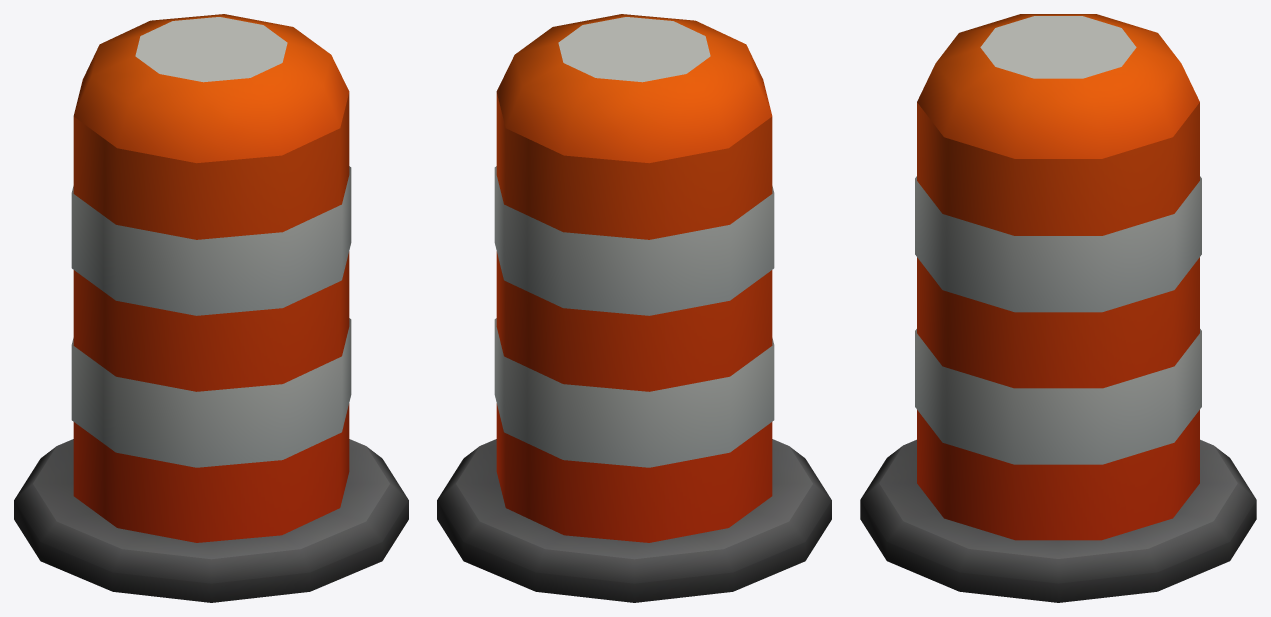
File: Traffic_Cone_2B.fbx
3 renders of one model, left to right at view 1: azimuth 30°, elevation 25°; view 2: azimuth 150°, elevation 25°; view 3: azimuth 270°, elevation 25°, orthographic.
Parts seen in each view (by area): view 1: Traffic_Cone_2B; view 2: Traffic_Cone_2B; view 3: Traffic_Cone_2B.
Boxes of the visible parts, <box> form: Traffic_Cone_2B: <box>14,14,408,602</box>; Traffic_Cone_2B: <box>437,14,831,602</box>; Traffic_Cone_2B: <box>860,14,1256,602</box>.
Size of the model in its own units: 1 by 1.31 by 1.
